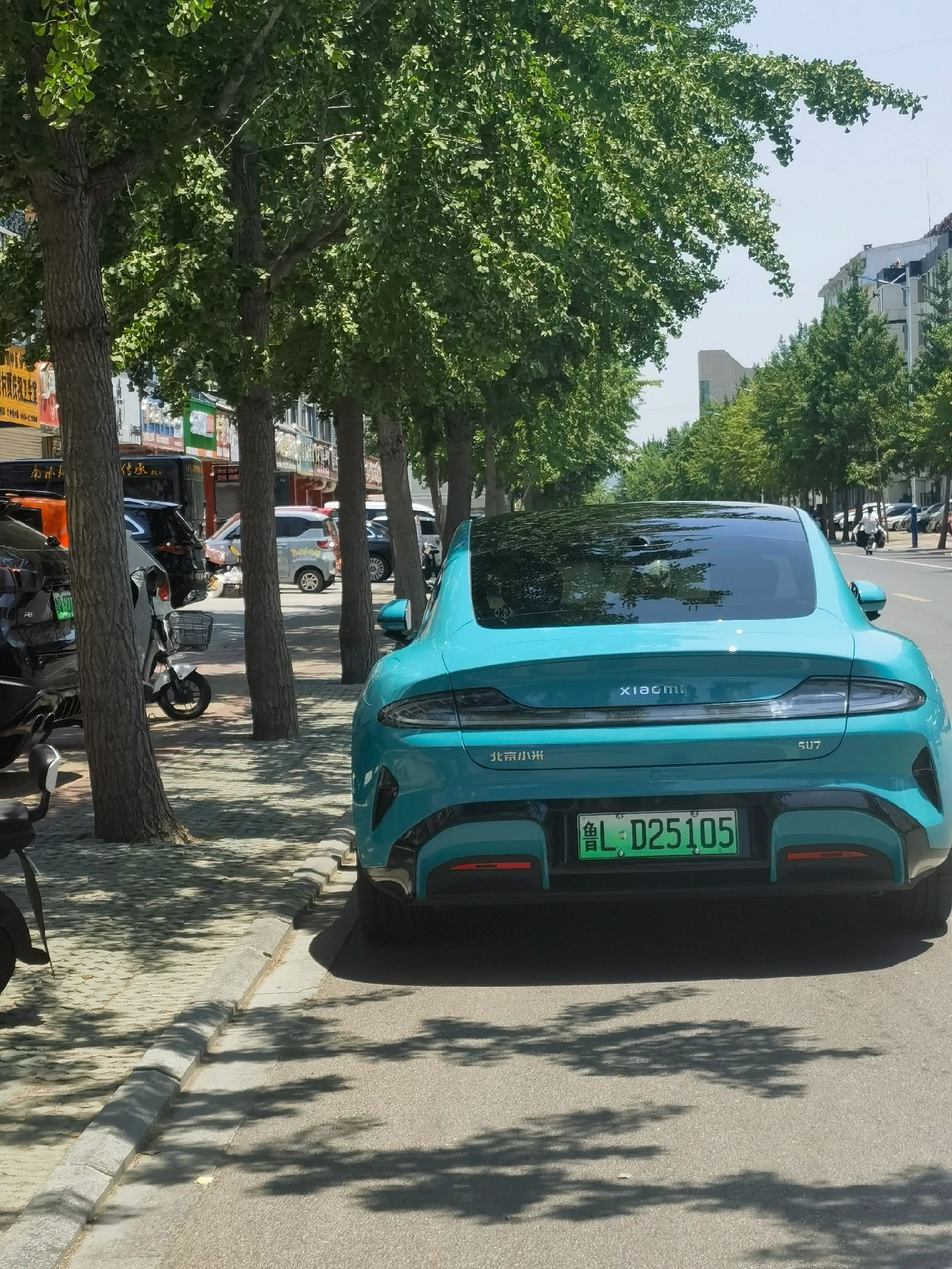other: (205, 510, 354, 605)
su7: (360, 506, 952, 937)
